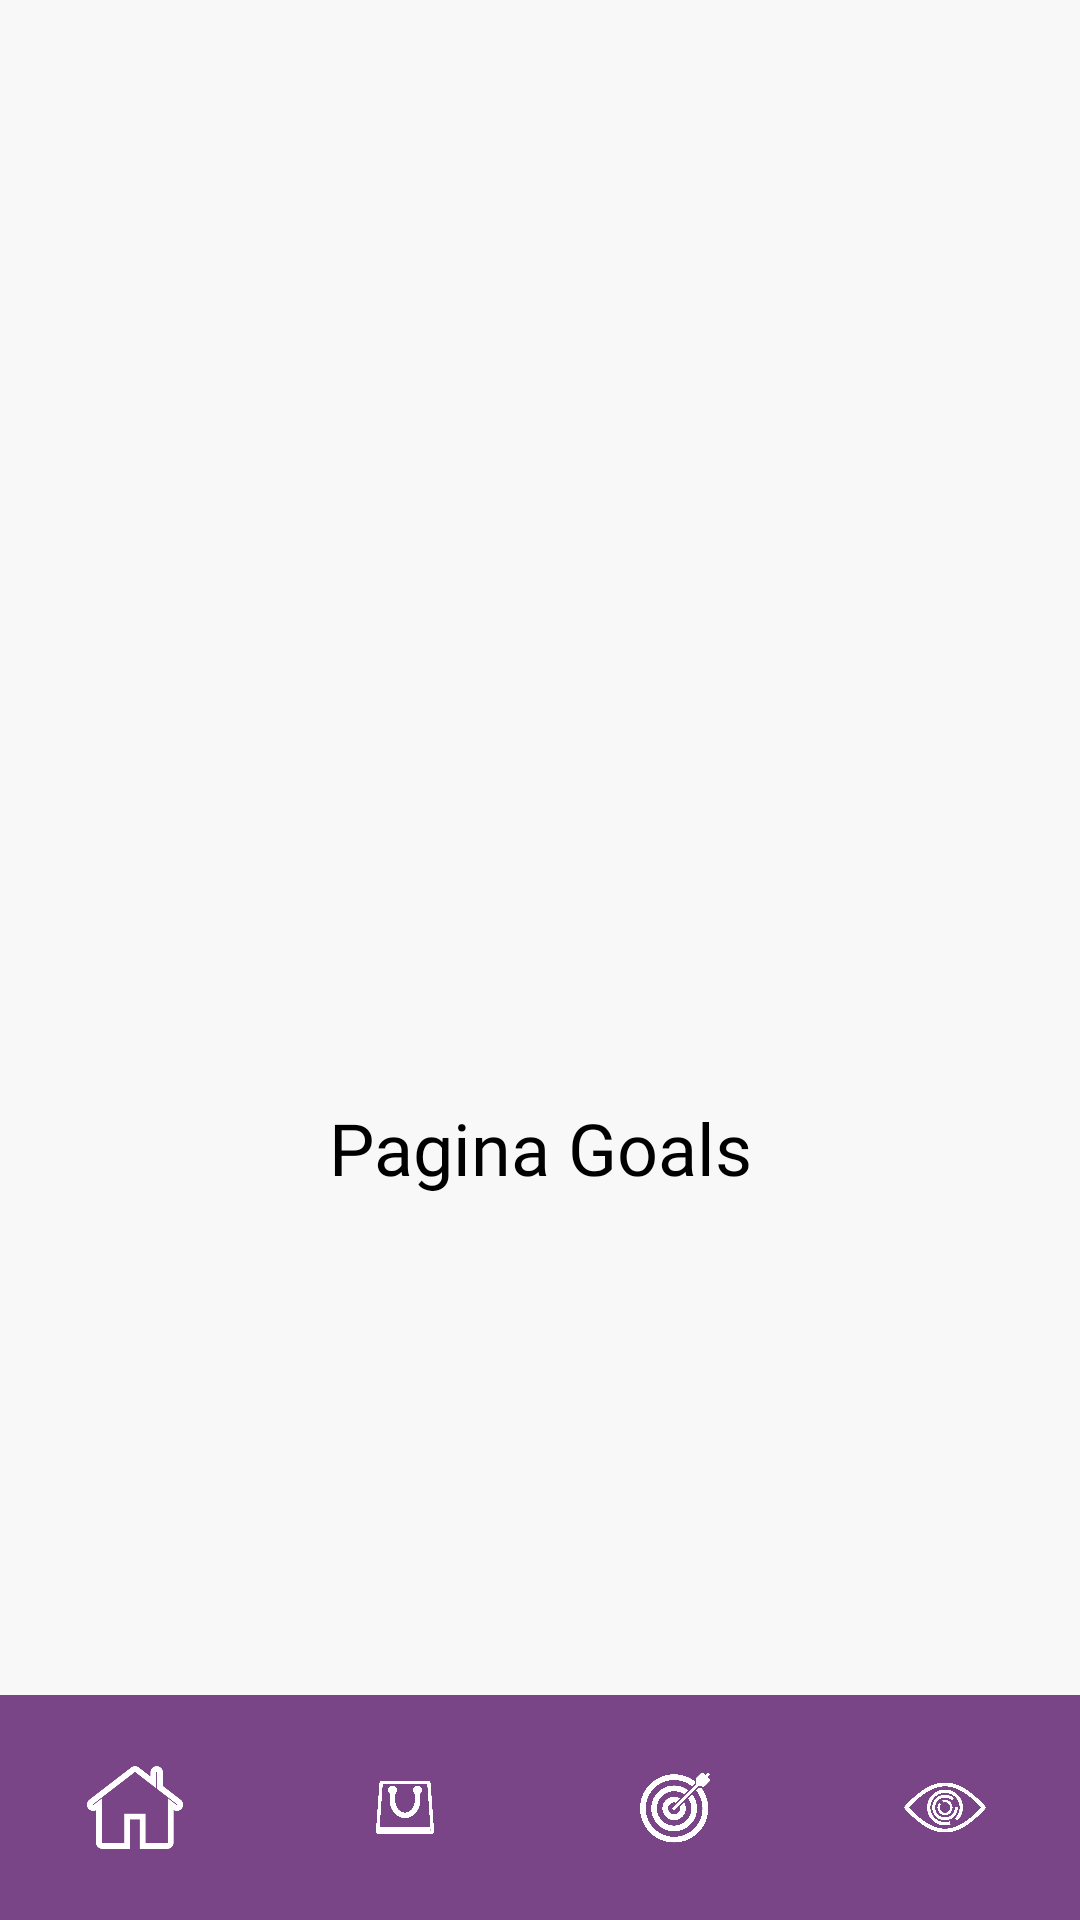

Screen size 1080x1920. Icon name, then its box in pixels as {"x1": x1, "y1": y1, "x2": x2, "y2": y2}:
Goals: {"x1": 640, "y1": 1773, "x2": 710, "y2": 1843}
Home: {"x1": 87, "y1": 1766, "x2": 183, "y2": 1849}
